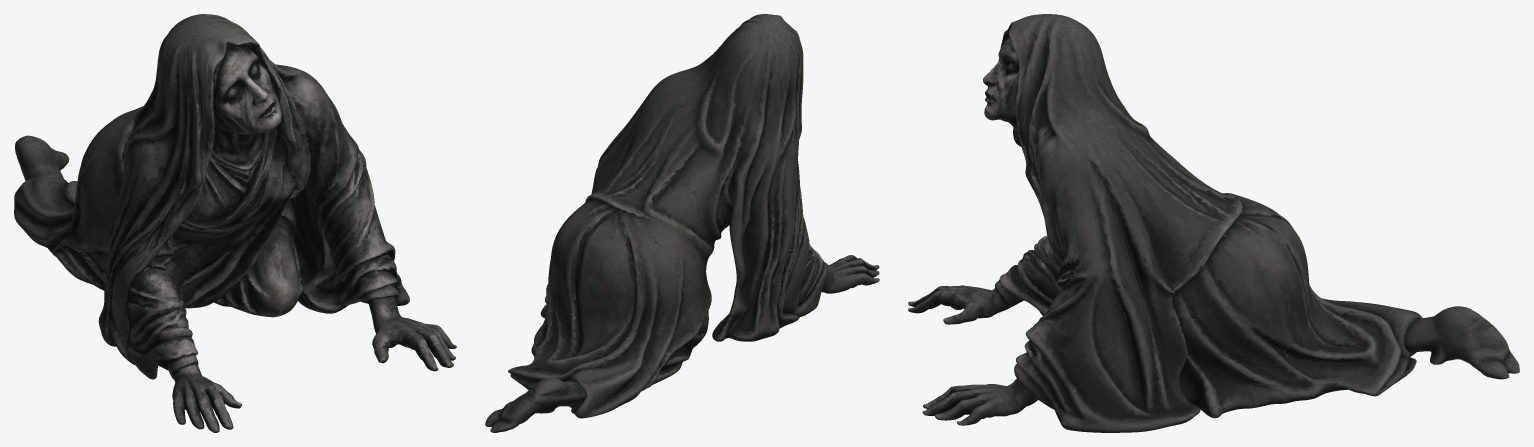
The model's file is saint_mary_model.glb.
The picture shows the model from 3 angles, left to right: view 1: azimuth 30°, elevation 25°; view 2: azimuth 150°, elevation 25°; view 3: azimuth 270°, elevation 25°; orthographic projection. The views are drawn at different scales.
Bounding box in the file's own units: 1.01 × 1.09 × 1.9.
Materials: 1 (1 with a texture image).
